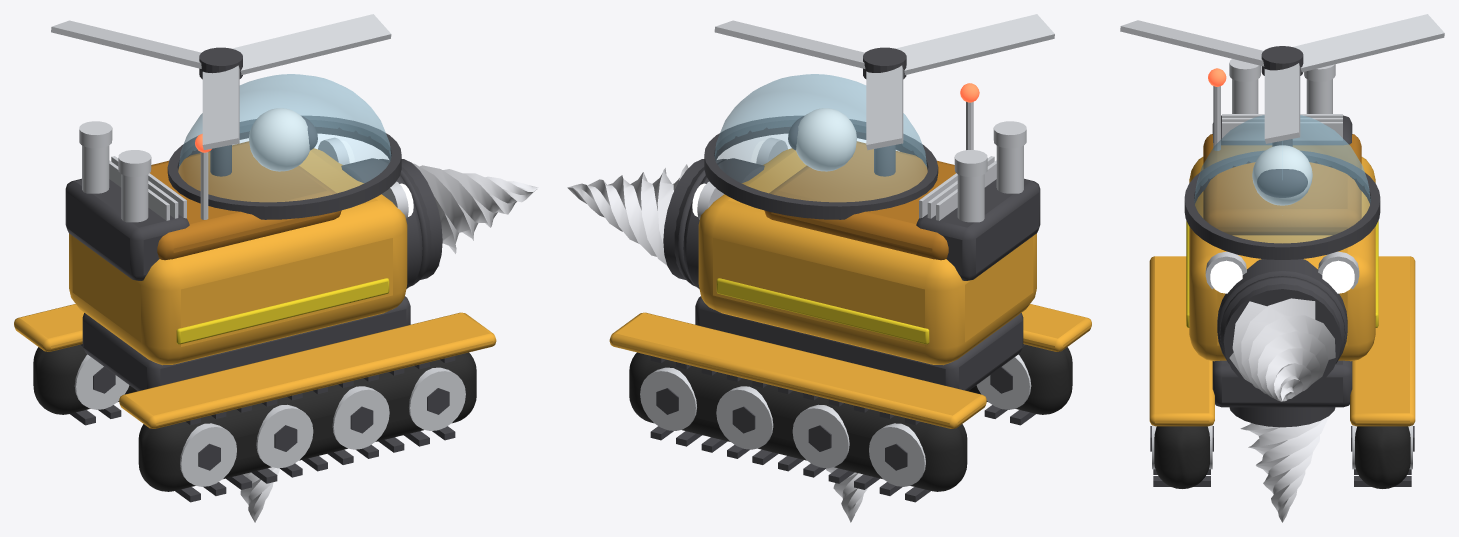
File: pod.glb
3 views of the same model, side by side, from view 1: azimuth 30°, elevation 25°; view 2: azimuth 150°, elevation 25°; view 3: azimuth 270°, elevation 25° (orthographic). The views are drawn at different scales.
Visible parts, largest first — view 1: Hull, Cockpit, FenderR, TrackR, Rotor, Deck, Suspension, CockpitFrame, DrillSide, Engine, Exhaust, StripeR (+15 smaller); view 2: Hull, Cockpit, FenderL, TrackL, Rotor, Deck, Suspension, CockpitFrame, DrillSide, Engine, Exhaust, StripeL (+14 smaller); view 3: Cockpit, DrillSide, Deck, Rotor, FenderL, FenderR, Hull, CockpitFrame, DrillDown, DrillHousing, Suspension, TrackL (+11 smaller).
Boxes of the visible parts, x1=… form: Hull: x1=69, y1=148, x2=407, y2=365; Cockpit: x1=178, y1=74, x2=391, y2=201; FenderR: x1=119, y1=312, x2=496, y2=428; TrackR: x1=138, y1=352, x2=476, y2=491; Rotor: x1=51, y1=14, x2=391, y2=150; Deck: x1=150, y1=141, x2=341, y2=260; Suspension: x1=82, y1=296, x2=410, y2=390; CockpitFrame: x1=167, y1=116, x2=401, y2=219; DrillSide: x1=401, y1=159, x2=538, y2=279; Engine: x1=65, y1=178, x2=189, y2=280; Exhaust: x1=79, y1=121, x2=151, y2=222; StripeR: x1=176, y1=278, x2=389, y2=344; Hull: x1=698, y1=148, x2=1036, y2=365; Cockpit: x1=714, y1=74, x2=927, y2=201; FenderL: x1=609, y1=312, x2=986, y2=428; TrackL: x1=629, y1=352, x2=967, y2=491; Rotor: x1=714, y1=14, x2=1054, y2=150; Deck: x1=764, y1=141, x2=955, y2=260; Suspension: x1=695, y1=296, x2=1023, y2=390; CockpitFrame: x1=704, y1=116, x2=938, y2=219; DrillSide: x1=567, y1=159, x2=704, y2=279; Engine: x1=916, y1=178, x2=1040, y2=280; Exhaust: x1=954, y1=121, x2=1026, y2=222; StripeL: x1=716, y1=278, x2=929, y2=344; Cockpit: x1=1194, y1=115, x2=1370, y2=243; DrillSide: x1=1223, y1=283, x2=1341, y2=401; Deck: x1=1203, y1=134, x2=1361, y2=235; Rotor: x1=1120, y1=14, x2=1444, y2=143; FenderL: x1=1350, y1=256, x2=1415, y2=426; FenderR: x1=1149, y1=256, x2=1214, y2=426; Hull: x1=1189, y1=157, x2=1375, y2=361; CockpitFrame: x1=1184, y1=151, x2=1380, y2=259; DrillDown: x1=1229, y1=407, x2=1335, y2=522; DrillHousing: x1=1217, y1=259, x2=1347, y2=363; Suspension: x1=1212, y1=360, x2=1352, y2=407; TrackL: x1=1355, y1=426, x2=1410, y2=488.
Bounding box in the file's own units: 1.08 × 1.07 × 0.6961.
